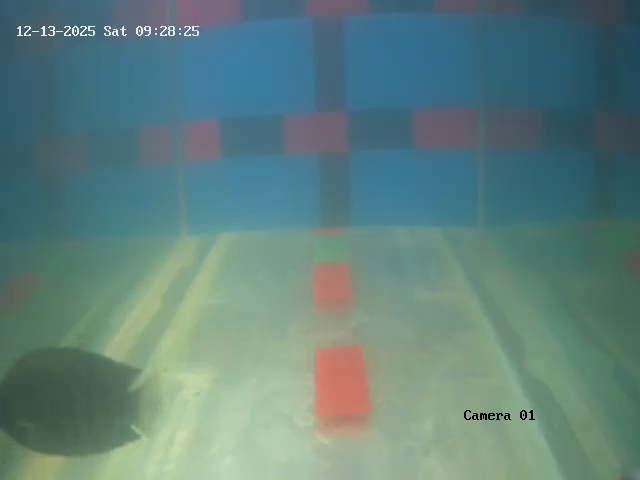fish: (4, 341, 152, 454)
